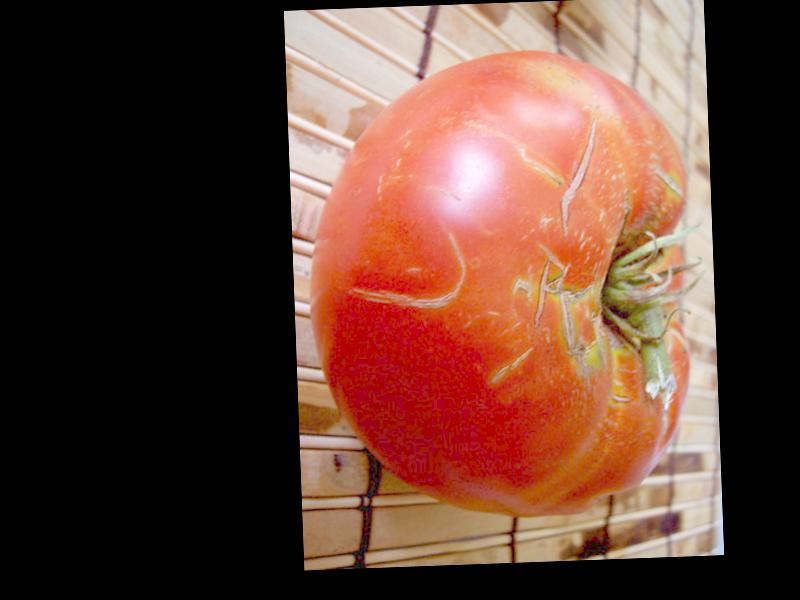Tomato: (307, 45, 699, 524)
